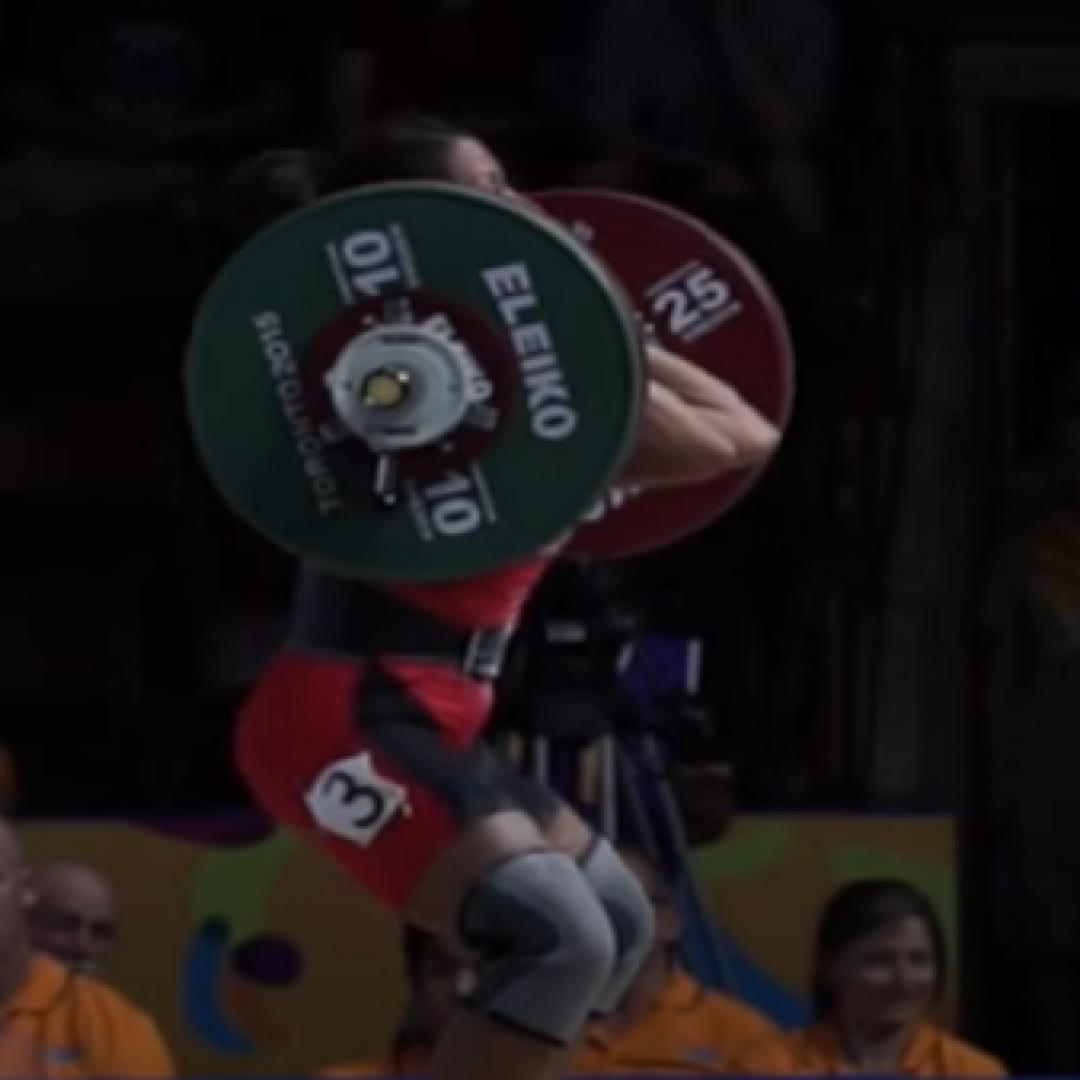Bar: (358, 366, 412, 410)
Barbell: (188, 187, 636, 578)
